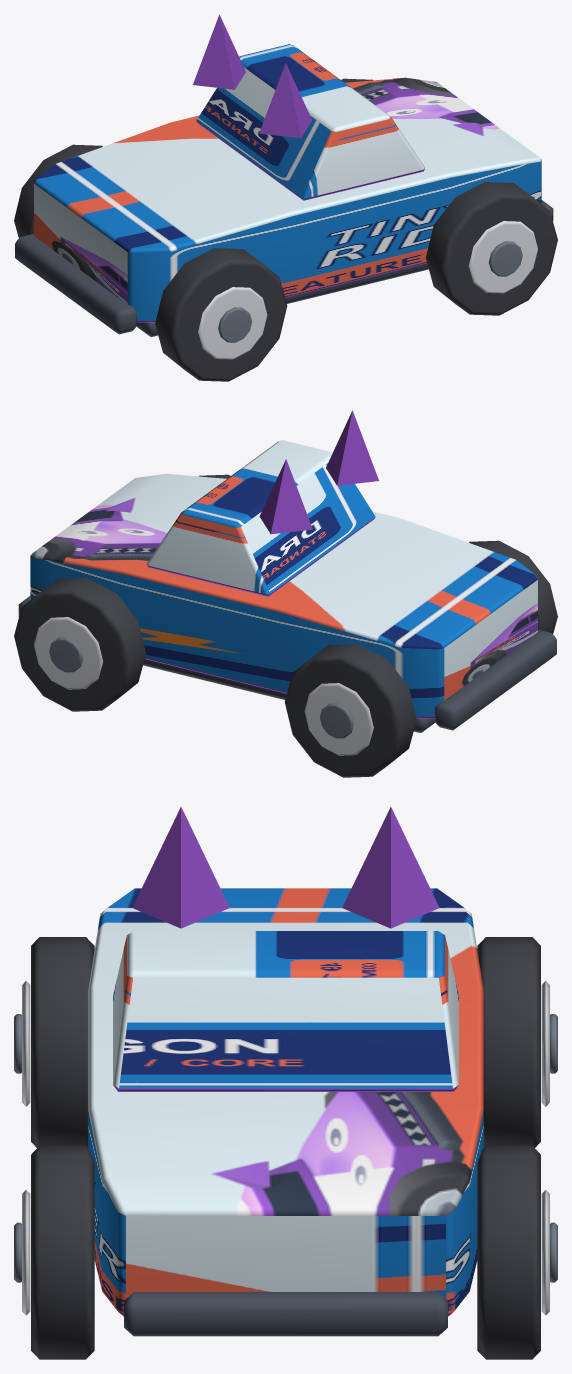
3 renders of one model, top to bottom at view 1: azimuth 30°, elevation 25°; view 2: azimuth 150°, elevation 25°; view 3: azimuth 270°, elevation 25°, orthographic. The views are drawn at different scales.
Parts seen in each view (by area): view 1: CR-05_connected_shell, CR-05_cabin, Tire.002, Tire, front bumper, Rim, Rim.002, horn.001, horn, Tire.001, underbody, Hub (+1 smaller); view 2: CR-05_connected_shell, CR-05_cabin, Tire.003, Tire.001, front bumper, Rim.001, Rim.003, horn, horn.001, Tire, underbody, Hub.001 (+1 smaller); view 3: CR-05_connected_shell, CR-05_cabin, rear bumper, Tire.002, Tire.003, Tire, Tire.001, horn, horn.001, Rim, Rim.001, Rim.002 (+1 smaller).
Boxes of the visible parts, <box> form: CR-05_connected_shell: <box>34,77,541,322</box>; CR-05_cabin: <box>196,44,424,200</box>; Tire.002: <box>426,182,557,315</box>; Tire: <box>155,248,287,381</box>; front bumper: <box>15,234,137,334</box>; Rim: <box>198,287,267,359</box>; Rim.002: <box>469,221,537,293</box>; horn.001: <box>193,14,245,89</box>; horn: <box>259,63,312,138</box>; Tire.001: <box>14,144,102,237</box>; underbody: <box>136,263,428,336</box>; Hub: <box>218,307,251,342</box>; CR-05_connected_shell: <box>30,473,537,718</box>; CR-05_cabin: <box>147,440,375,596</box>; Tire.003: <box>14,578,145,711</box>; Tire.001: <box>284,644,416,777</box>; front bumper: <box>434,630,556,730</box>; Rim.001: <box>304,683,373,755</box>; Rim.003: <box>34,617,102,689</box>; horn: <box>326,410,378,485</box>; horn.001: <box>259,459,312,534</box>; Tire: <box>469,540,557,633</box>; underbody: <box>143,659,435,732</box>; Hub.001: <box>320,703,353,738</box>; CR-05_connected_shell: <box>88,888,483,1316</box>; CR-05_cabin: <box>113,931,458,1091</box>; rear bumper: <box>124,1292,447,1336</box>; Tire.002: <box>31,1145,94,1359</box>; Tire.003: <box>477,1145,540,1359</box>; Tire: <box>31,937,94,1147</box>; Tire.001: <box>477,937,540,1147</box>; horn: <box>132,806,229,928</box>; horn.001: <box>342,806,439,928</box>; Rim: <box>22,981,30,1106</box>; Rim.001: <box>541,981,549,1106</box>; Rim.002: <box>22,1190,30,1315</box>.
Size of the model in its own units: 330 by 187 by 223.
